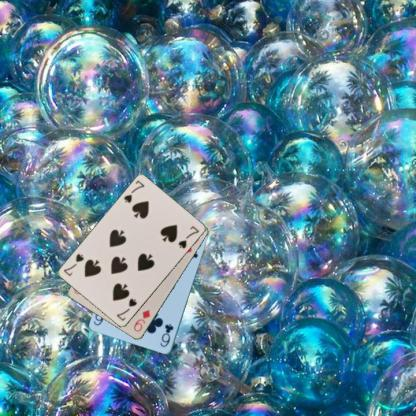6c: (158, 322, 174, 349)
7s: (120, 178, 146, 204), (114, 296, 138, 322)
9d: (132, 308, 152, 334)
